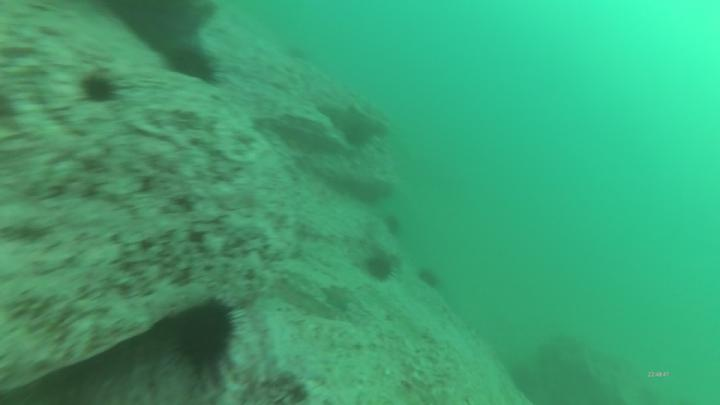echinus: (165, 295, 243, 378), (167, 48, 219, 85), (78, 73, 119, 107), (365, 255, 395, 284), (417, 267, 443, 291), (381, 213, 403, 238)
starfish: (319, 280, 356, 316)
